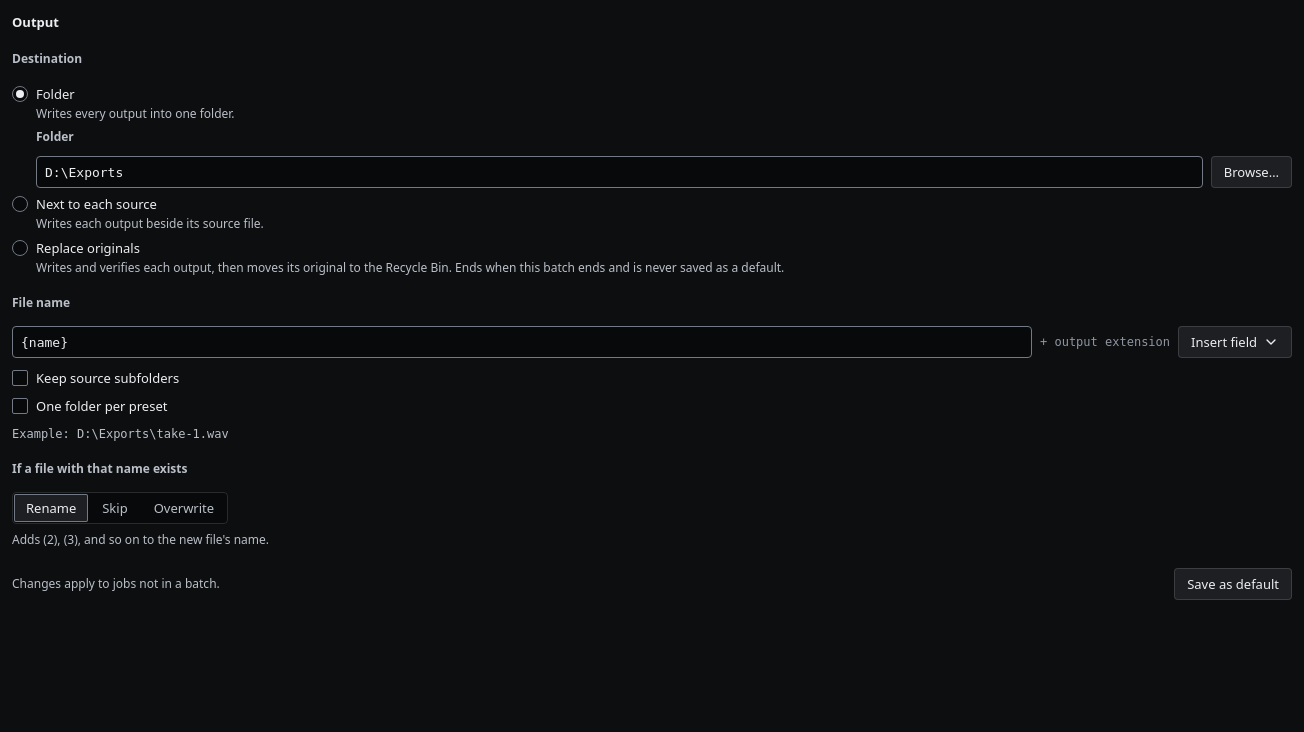
OutputPolicyPanel › saves a folder policy as the default through main and says so
The width and height of the screenshot is (1304, 732).
Click the button "Save as default" at (1233, 584), box [1174,568,1292,600]
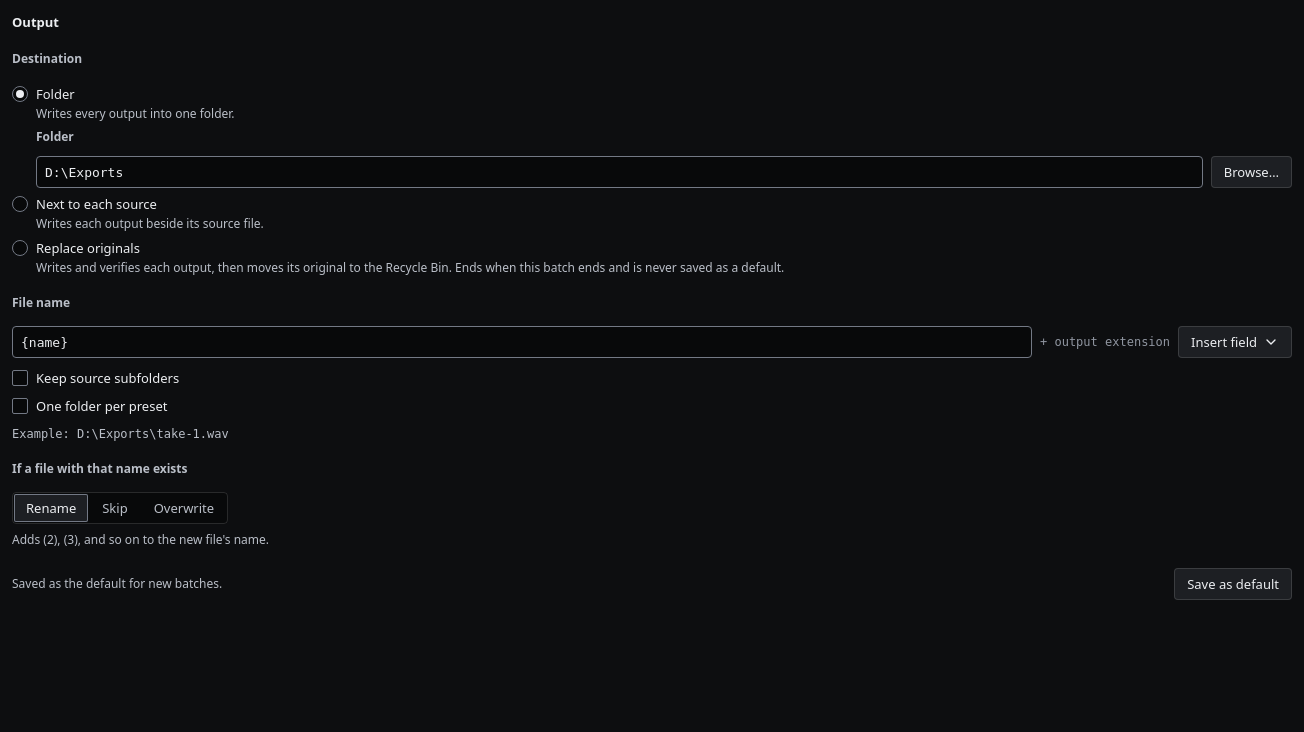
Result: the text "Saved as the default for new batches." is shown at [12,576,222,592]
